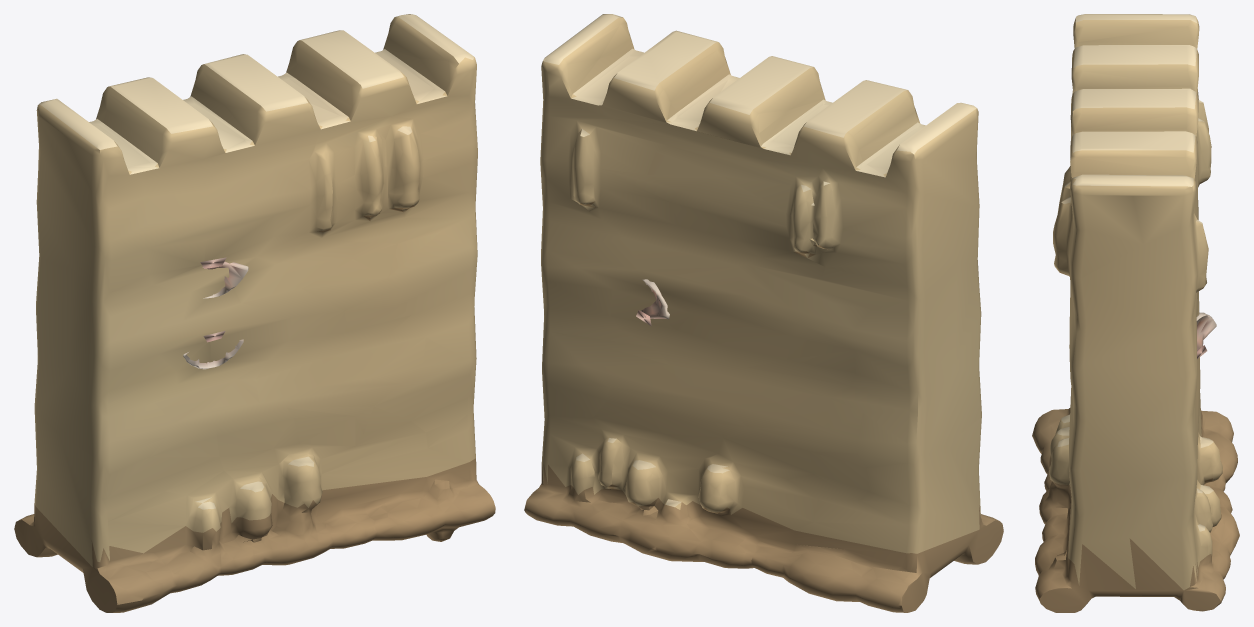
Rendered from shore_castle_wall.glb.
3 views of the same model, side by side, from view 1: azimuth 30°, elevation 25°; view 2: azimuth 150°, elevation 25°; view 3: azimuth 270°, elevation 25° (orthographic). The views are drawn at different scales.
Parts seen in each view (by area): view 1: shore_castle_wall; view 2: shore_castle_wall; view 3: shore_castle_wall.
Part boxes in pixels (x1,y1,x2,y2): shore_castle_wall: (14, 14, 495, 612); shore_castle_wall: (524, 14, 1003, 612); shore_castle_wall: (1032, 14, 1239, 612).
Bounding box in the file's own units: 10.03 × 11.82 × 4.98.
